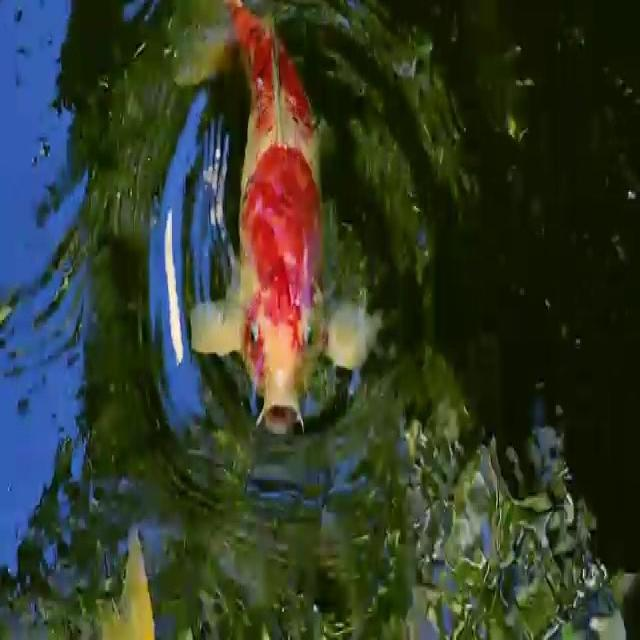fish: (184, 0, 384, 441)
